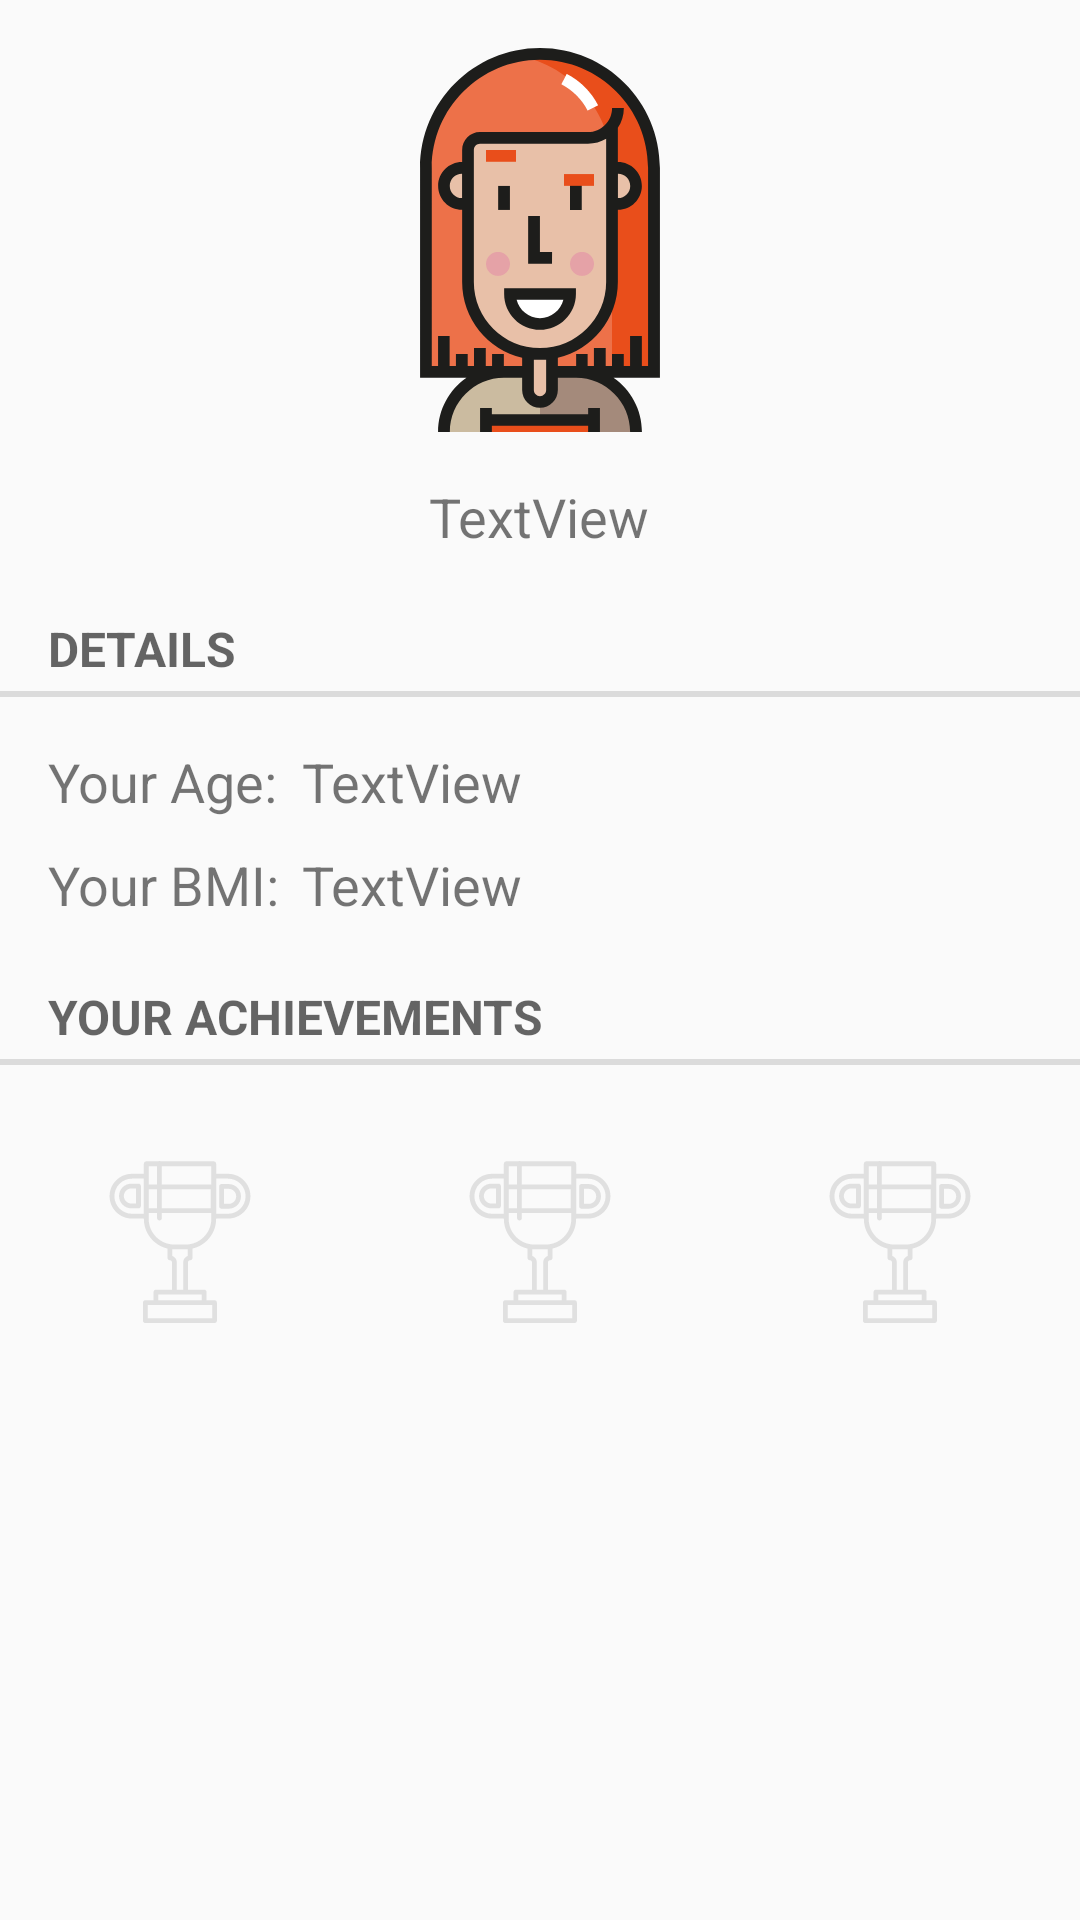

Screen size 1080×1920. Icon name, then its box in pixels as {"left": x1, "top": y1, "right": x2, "bottom": y2}:
trophy: {"left": 110, "top": 1161, "right": 250, "bottom": 1323}, {"left": 470, "top": 1161, "right": 610, "bottom": 1323}, {"left": 830, "top": 1161, "right": 970, "bottom": 1323}
